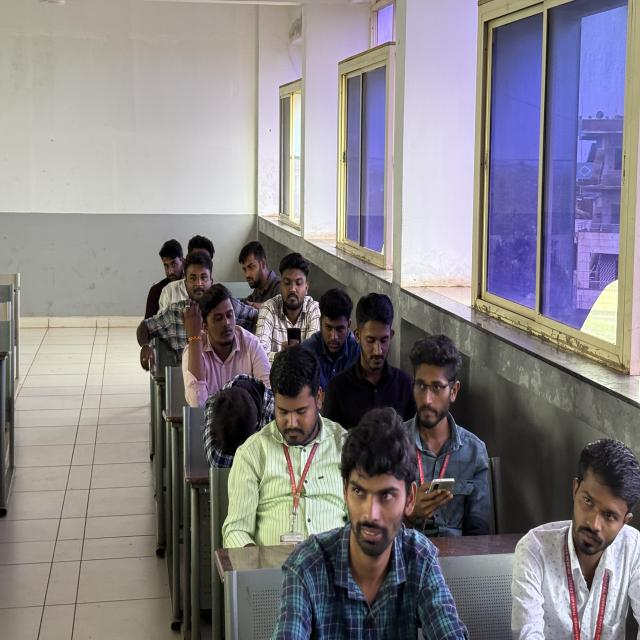Sleeping: (198, 358, 280, 476)
Using Phone: (403, 330, 492, 511), (261, 249, 328, 352)
